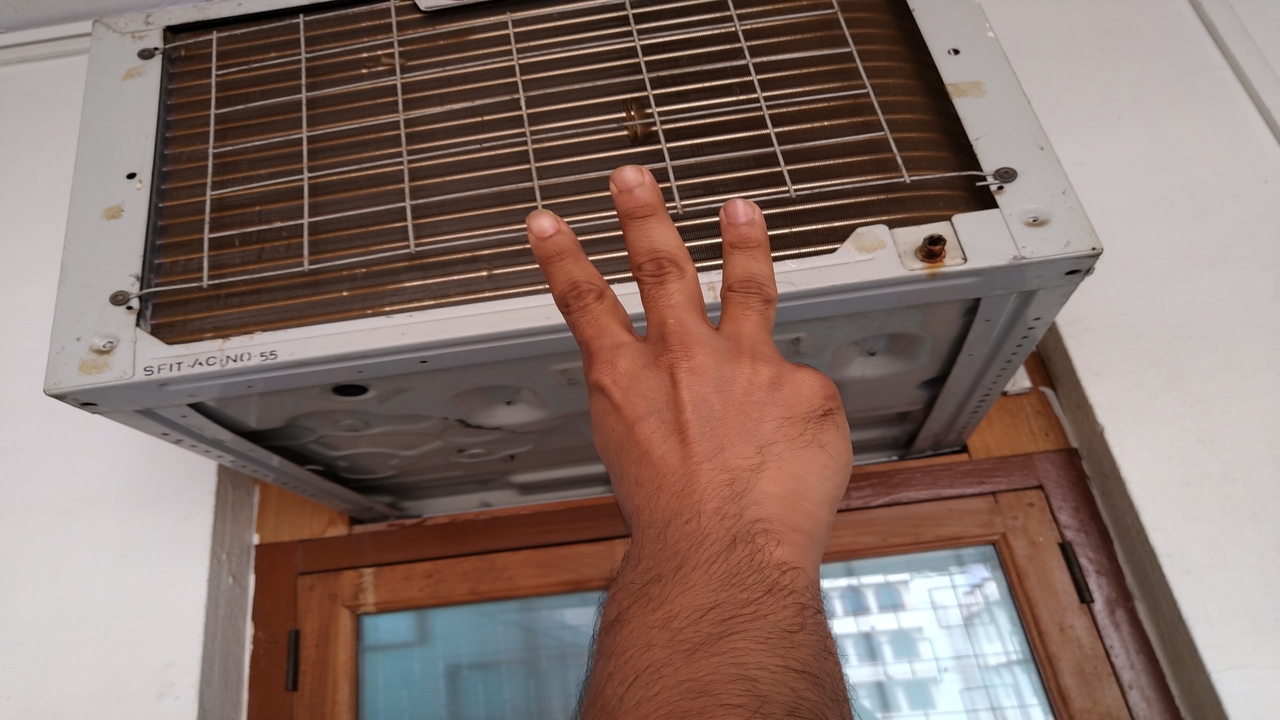fingertip: (602, 152, 664, 214), (520, 200, 572, 256), (718, 188, 774, 240)
